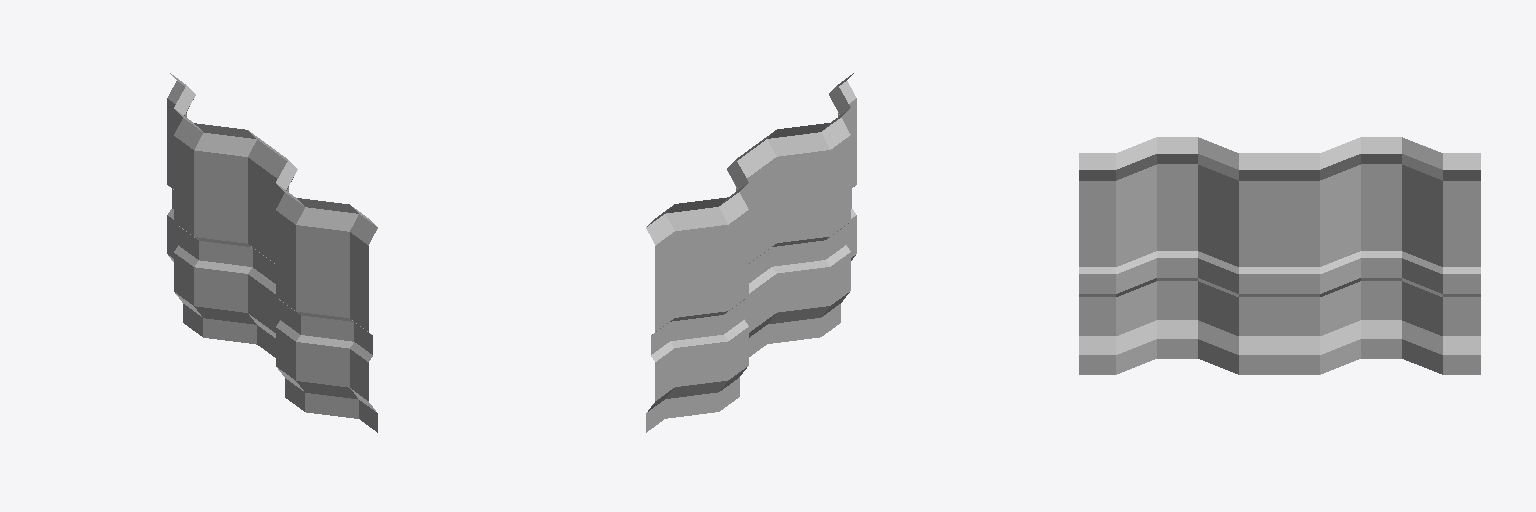
The model's file is Wall Panel 1.obj.
3 views of the same model, side by side, from view 1: azimuth 30°, elevation 25°; view 2: azimuth 150°, elevation 25°; view 3: azimuth 270°, elevation 25° (orthographic).
Visible parts, largest first — view 1: Plane; view 2: Plane; view 3: Plane.
Part boxes in pixels (x1,y1,x2,y2): Plane: (167,73,377,432); Plane: (646,73,856,432); Plane: (1079,137,1480,374).
Size of the model in its own units: 0.5709 by 2.76 by 4.64.